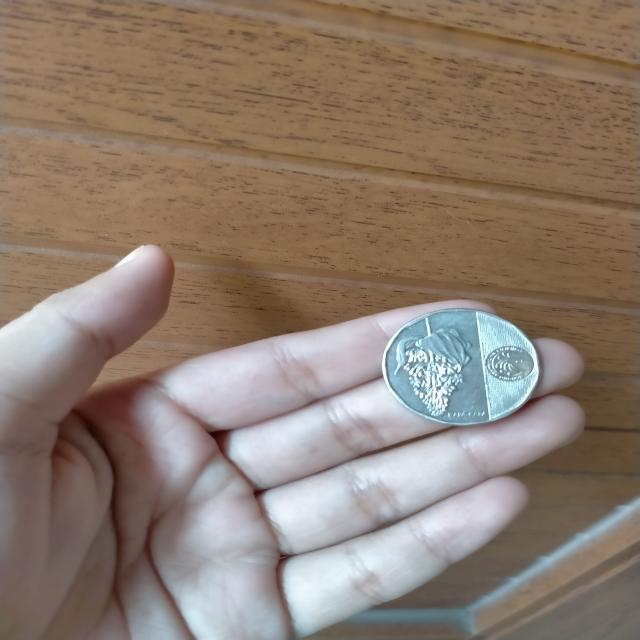10_New_Back: (391, 313, 472, 415)
